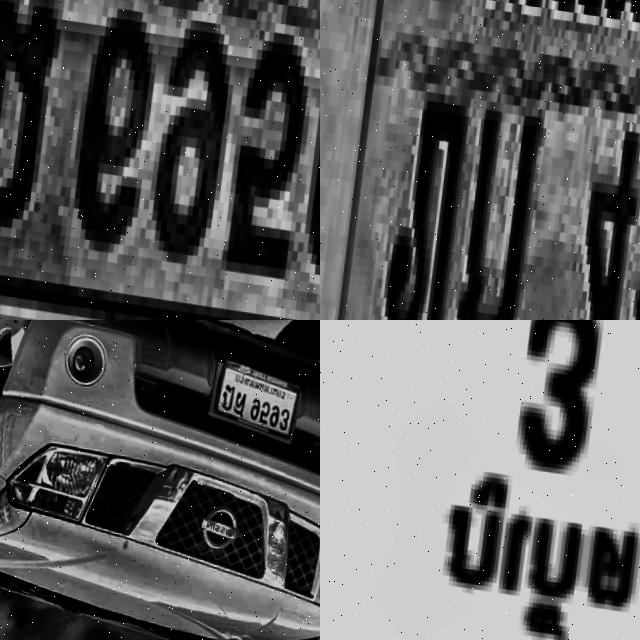license-plate: (0, 0, 320, 320), (320, 0, 640, 320), (320, 320, 640, 640), (202, 345, 307, 437)
